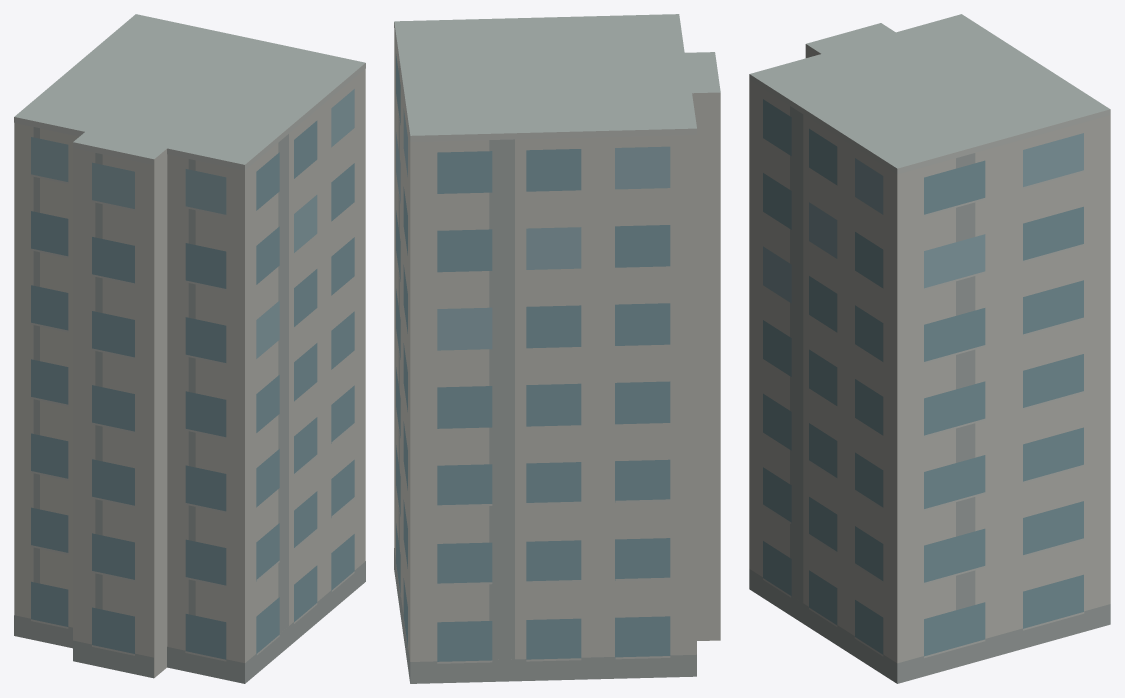
The model's file is residential-4790efa9-04ca-4d6a-90c1-4338bd8d6079.glb.
The picture shows the model from 3 angles, left to right: view 1: azimuth 30°, elevation 25°; view 2: azimuth 150°, elevation 25°; view 3: azimuth 270°, elevation 25°; orthographic projection. The views are drawn at different scales.
Parts seen in each view (by area): view 1: residential-4790efa9-04ca-4d6a-90c1-4338bd8d6079.tmp; view 2: residential-4790efa9-04ca-4d6a-90c1-4338bd8d6079.tmp; view 3: residential-4790efa9-04ca-4d6a-90c1-4338bd8d6079.tmp.
Part boxes in pixels (x1,y1,x2,y2): residential-4790efa9-04ca-4d6a-90c1-4338bd8d6079.tmp: (14, 14, 365, 683); residential-4790efa9-04ca-4d6a-90c1-4338bd8d6079.tmp: (394, 14, 720, 683); residential-4790efa9-04ca-4d6a-90c1-4338bd8d6079.tmp: (749, 14, 1110, 683).
Size of the model in its own units: 13.75 by 21.35 by 13.57.
